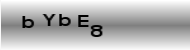8: (89, 23, 102, 38)
E: (76, 14, 89, 28)
Y: (41, 12, 57, 28)
b: (20, 14, 36, 29), (57, 12, 71, 27)
